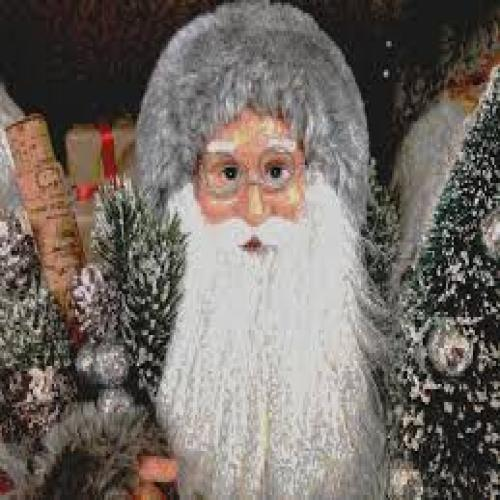Santa: (134, 0, 372, 500)
